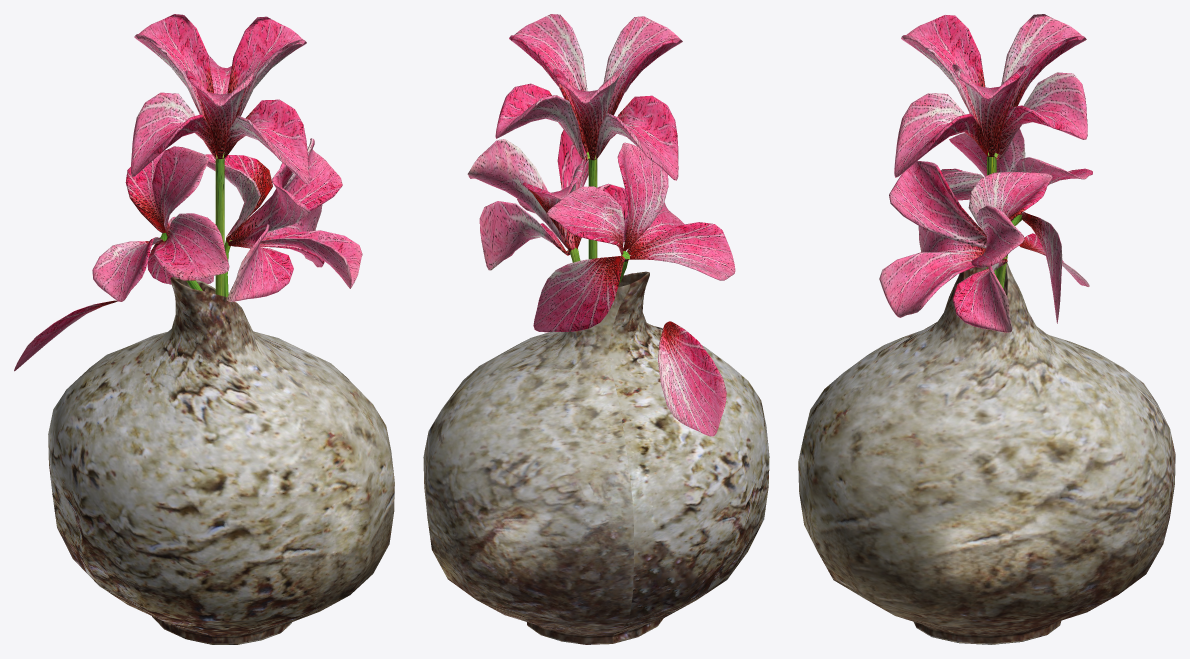
Rendered from Robbers Abdilla.fbx.
The picture shows the model from 3 angles, left to right: view 1: azimuth 30°, elevation 25°; view 2: azimuth 150°, elevation 25°; view 3: azimuth 270°, elevation 25°; orthographic projection.
Parts seen in each view (by area): view 1: Vase, TallFlower_2, TallFlower_1, FlowerBase_PartialHead, FallingPetal; view 2: Vase, FlowerBase_PartialHead, TallFlower_2, TallFlower_1, FallingPetal; view 3: Vase, TallFlower_2, TallFlower_1, FlowerBase_PartialHead, FallingPetal.
Boxes of the visible parts, x1,y1,x2,y2 form: Vase: [48, 276, 394, 644]; TallFlower_2: [131, 14, 309, 296]; TallFlower_1: [205, 138, 362, 301]; FlowerBase_PartialHead: [92, 146, 229, 301]; FallingPetal: [14, 300, 117, 371]; Vase: [423, 271, 769, 644]; FlowerBase_PartialHead: [533, 142, 735, 332]; TallFlower_2: [495, 14, 682, 259]; TallFlower_1: [467, 130, 627, 270]; FallingPetal: [658, 321, 726, 436]; Vase: [798, 262, 1175, 644]; TallFlower_2: [894, 14, 1087, 276]; TallFlower_1: [879, 161, 1052, 332]; FlowerBase_PartialHead: [941, 128, 1092, 323]; FallingPetal: [1019, 233, 1089, 286].
Size of the model in its own units: 13.34 by 23.61 by 13.98.
